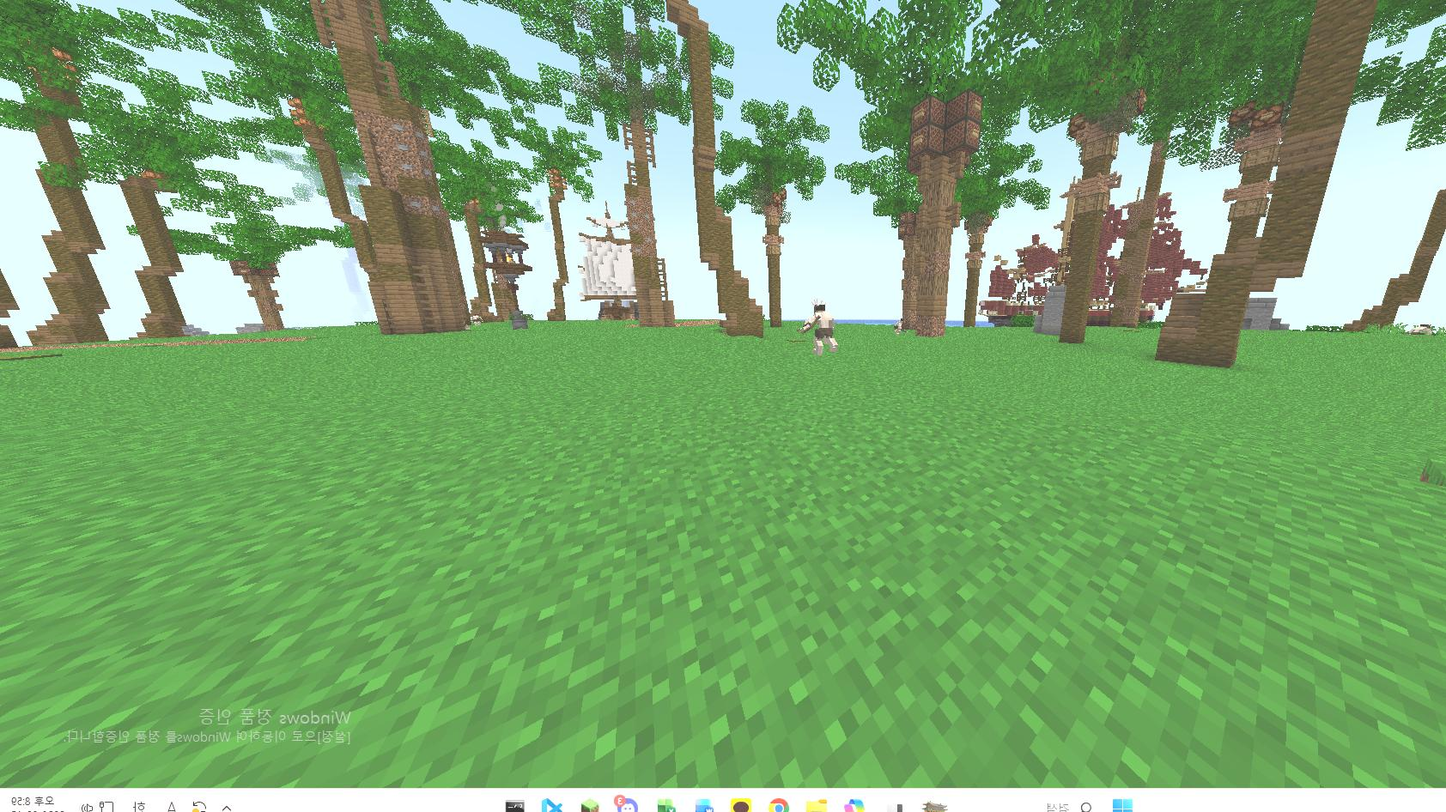bow_indian: (787, 291, 852, 366)
